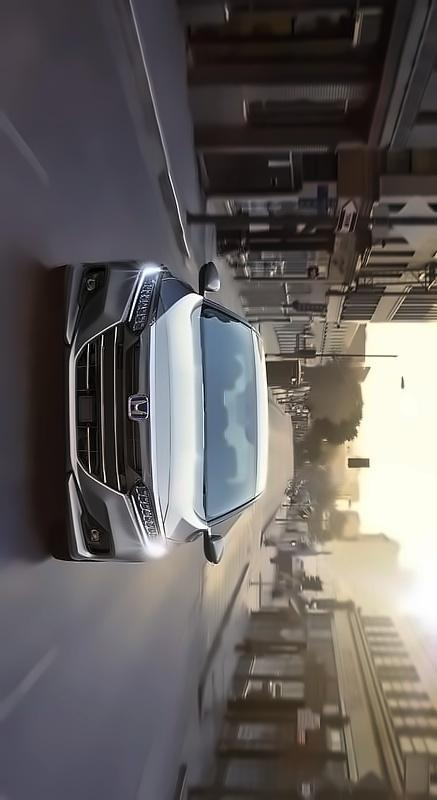Front bumper: (60, 260, 121, 561), (148, 267, 203, 546)
Headlight - -L-: (126, 481, 164, 547)
Headlight - -R-: (127, 261, 168, 336)
Side mirror - -L-: (200, 528, 227, 567)
Side mirror - -R-: (195, 261, 222, 300)
